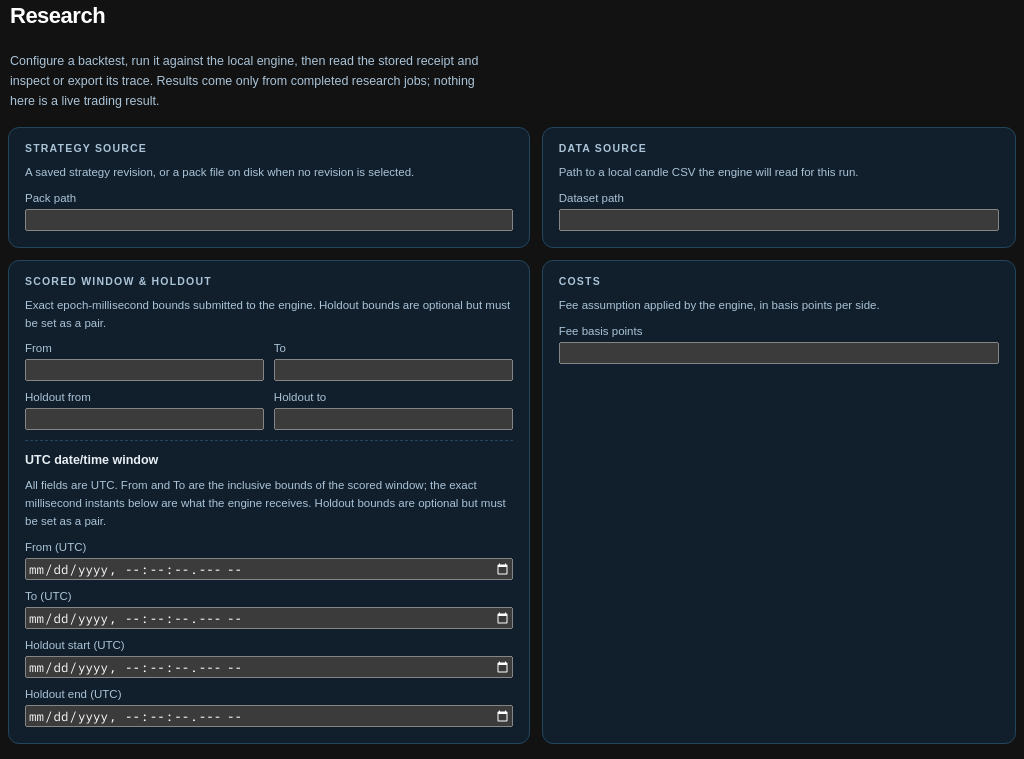
Research manual Load result honesty › keeps the same job cancellable after a failed load
Step 1. Type "LOCAL-LOAD-FIXTURE.csv" into the field labelled "Dataset path" → (779, 220), box [559,209,999,231]
Step 2. Type "40" into the field labelled "Fee basis points" → (779, 353), box [559,342,999,364]
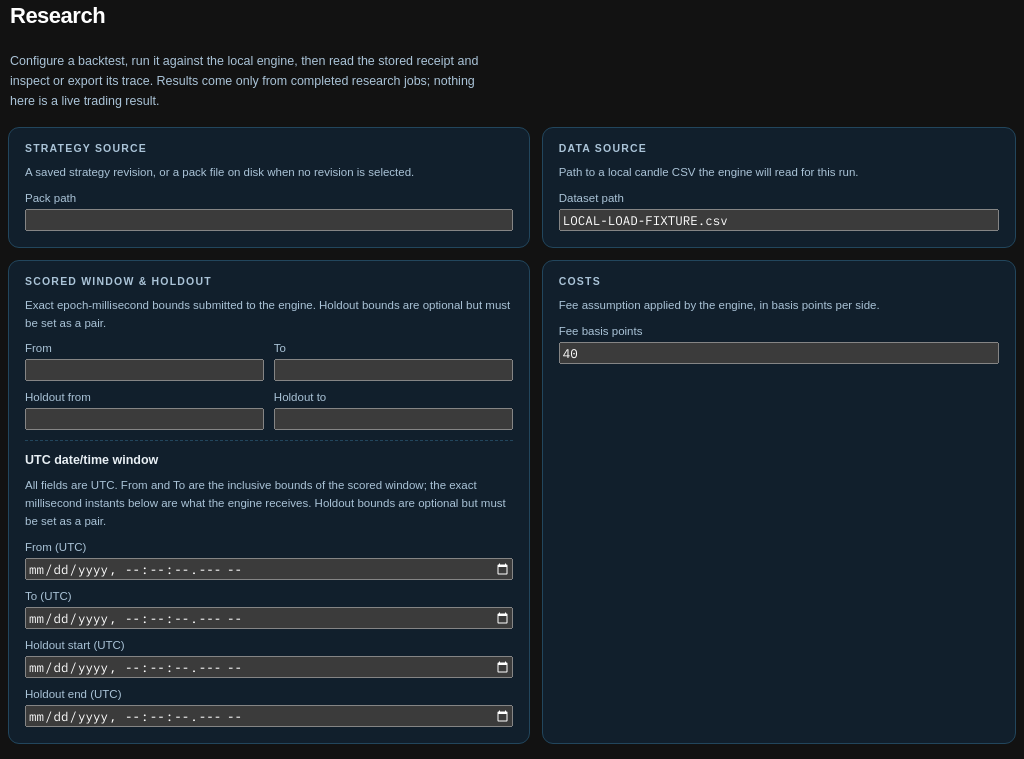
Step 3. Type "0" into the field labelled "From" → (144, 370), box [25,359,264,381]
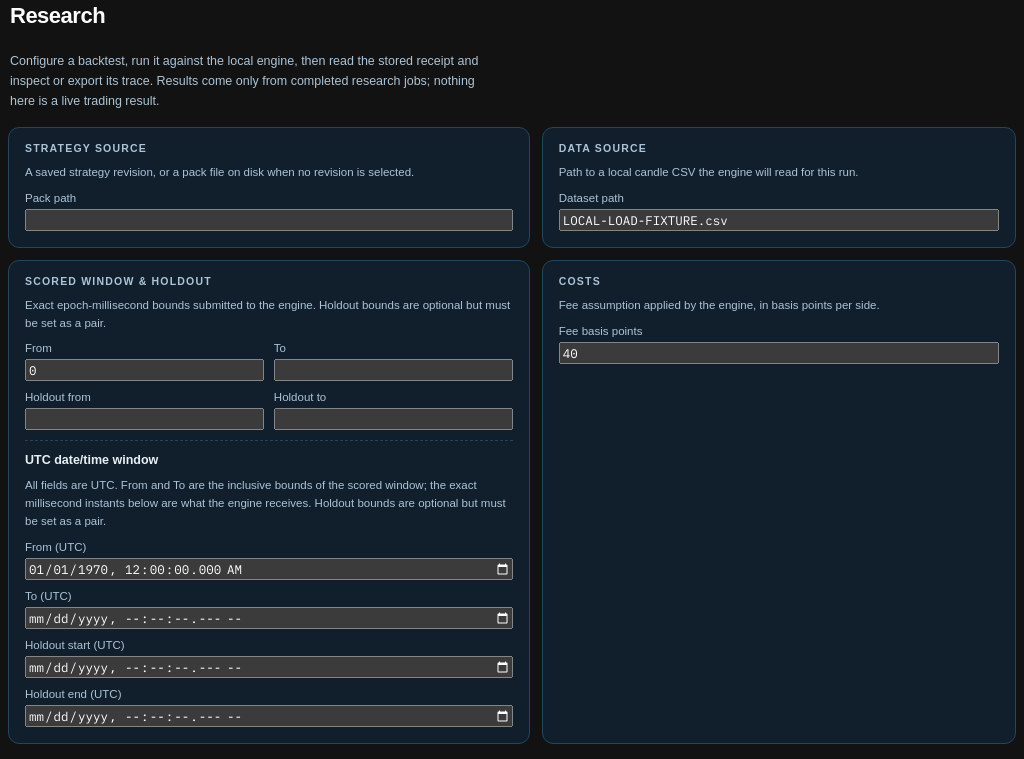
Step 4. Type "1000" into the field labelled "To" → (393, 370), box [274,359,513,381]
(page scrolled)
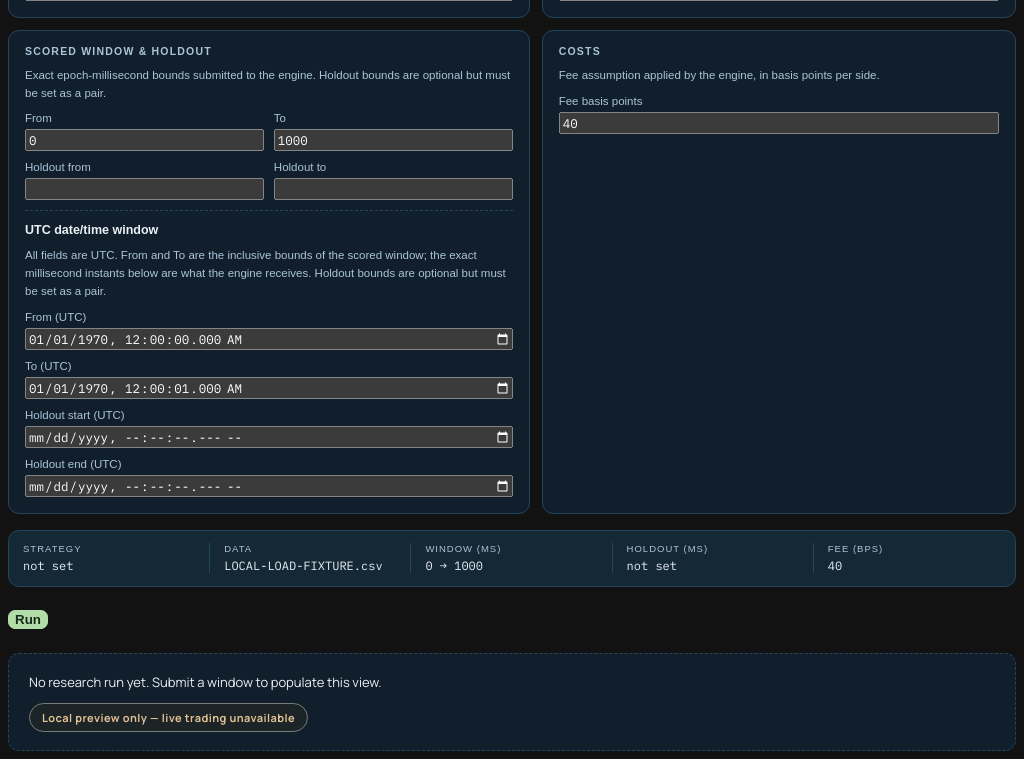
Step 5. Click the button "Run" → (28, 620), box [8,610,48,629]
(page scrolled)
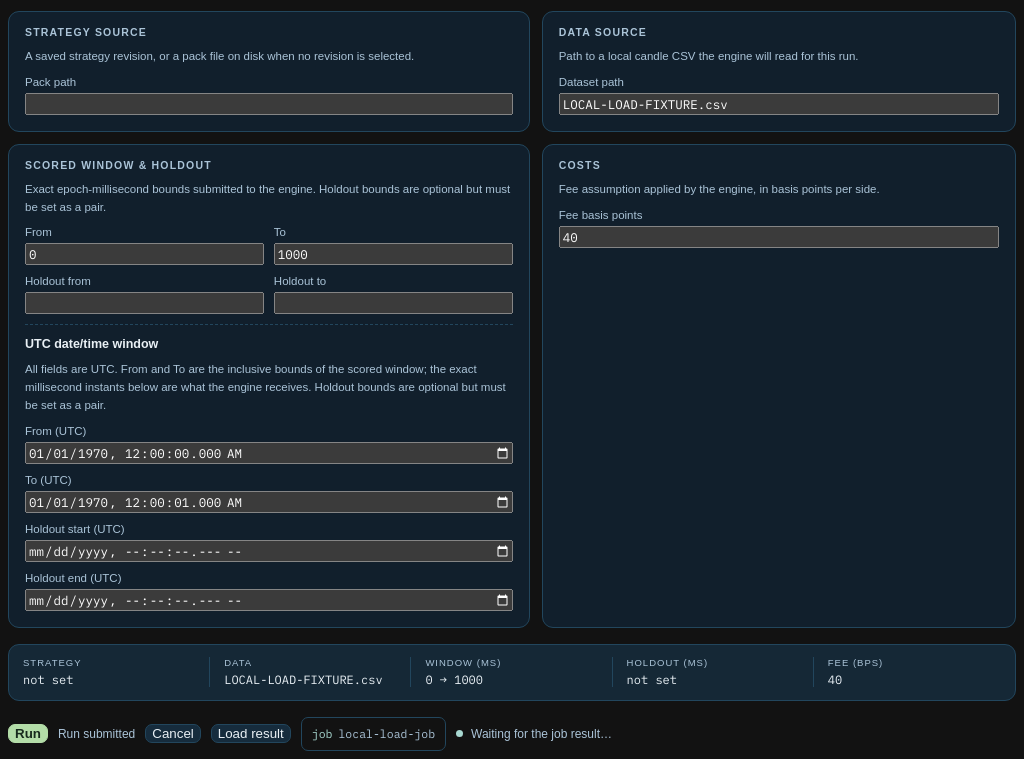
Expected: the element with test id "research-job-id" is shown, [301,717,446,751]
Step 6. Click the button "Load result" → (251, 734), box [211,724,291,743]
(page scrolled)
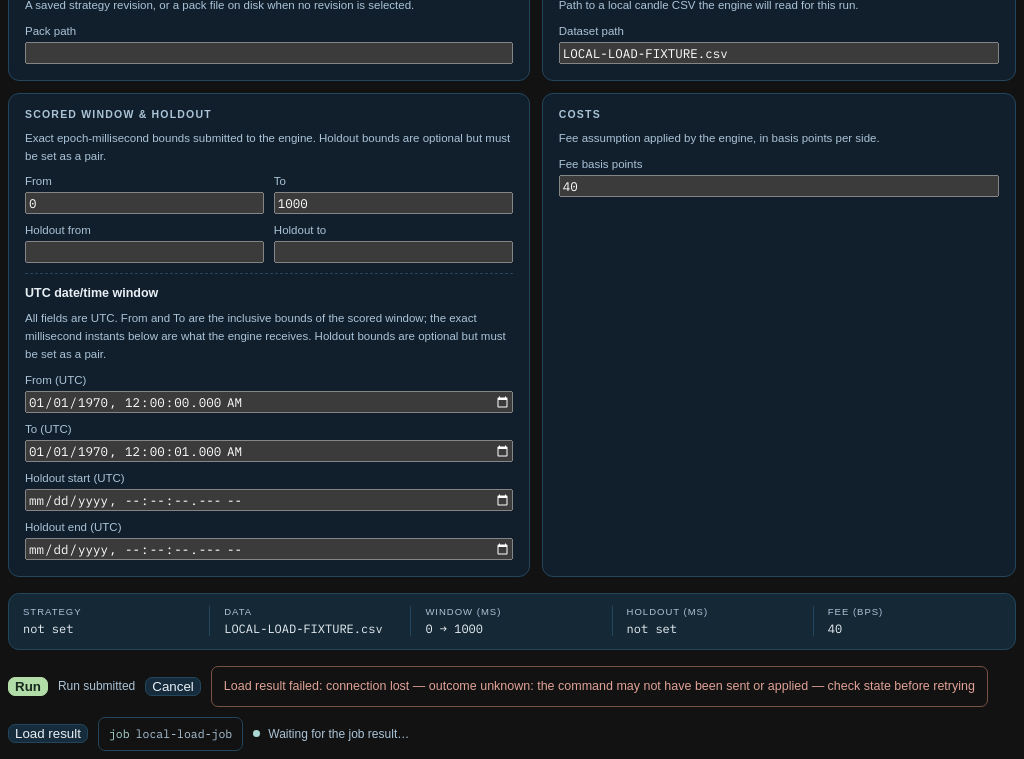
Expected: the message with test id "research-load-result-error" is shown, [211,666,988,707]
Step 7. Click the button with test id "research-cancel" → (173, 686), box [145,677,201,696]
(page scrolled)
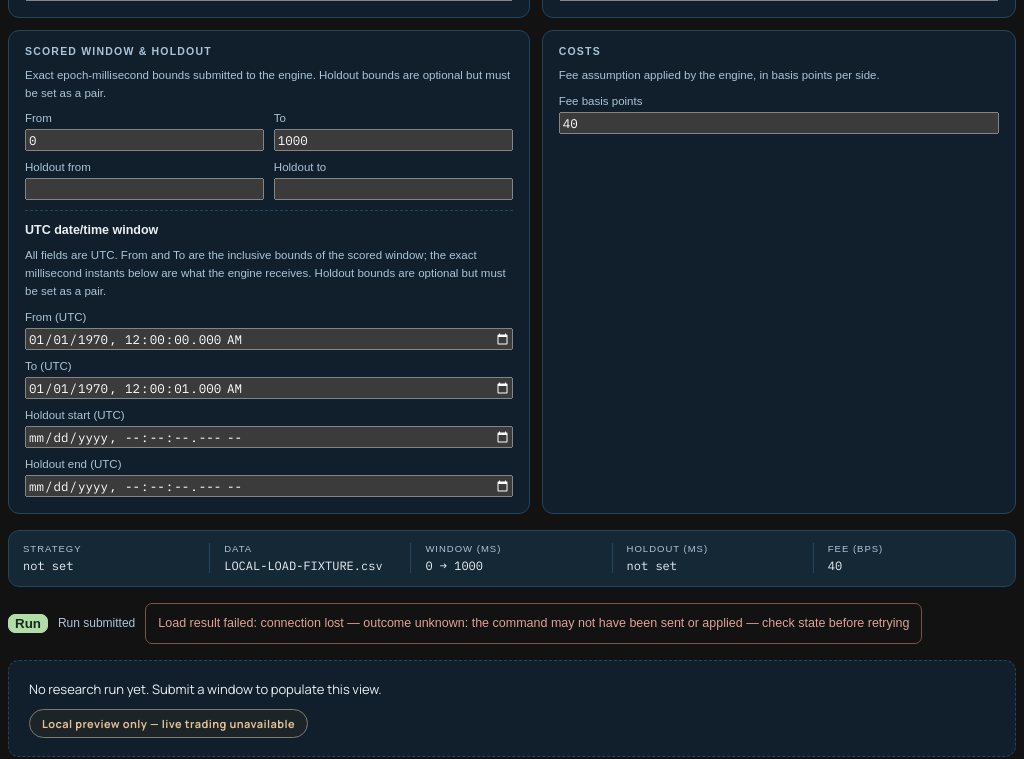
Expected: the element with test id "research-job-id" is gone
